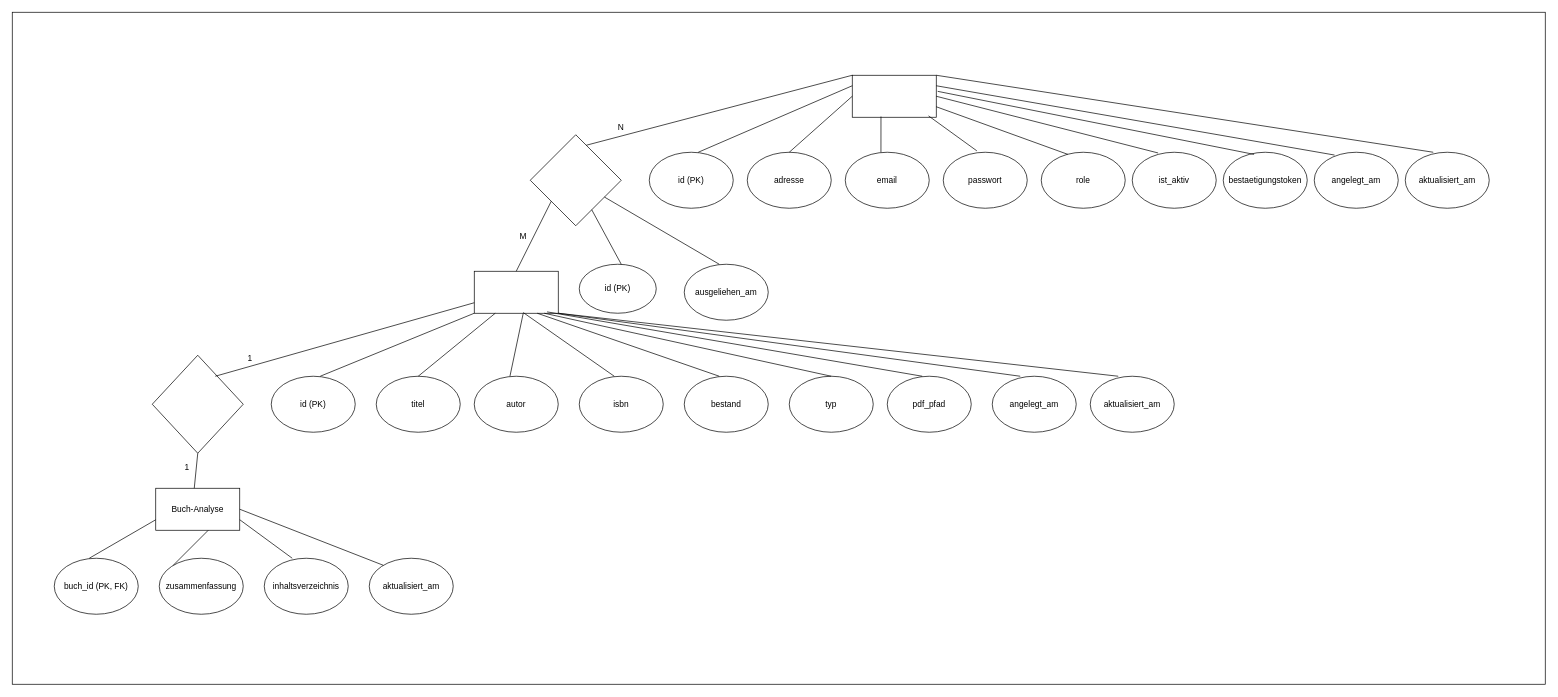
This 1558x697 diagram has some shape labels left out. Each missing label, with the centre of its shape:
"besitz" belongs at pixel 197 404.
"Buch" belongs at pixel 516 292.
"leiht aus" belongs at pixel 575 180.
"Nutzer" belongs at pixel 894 96.
